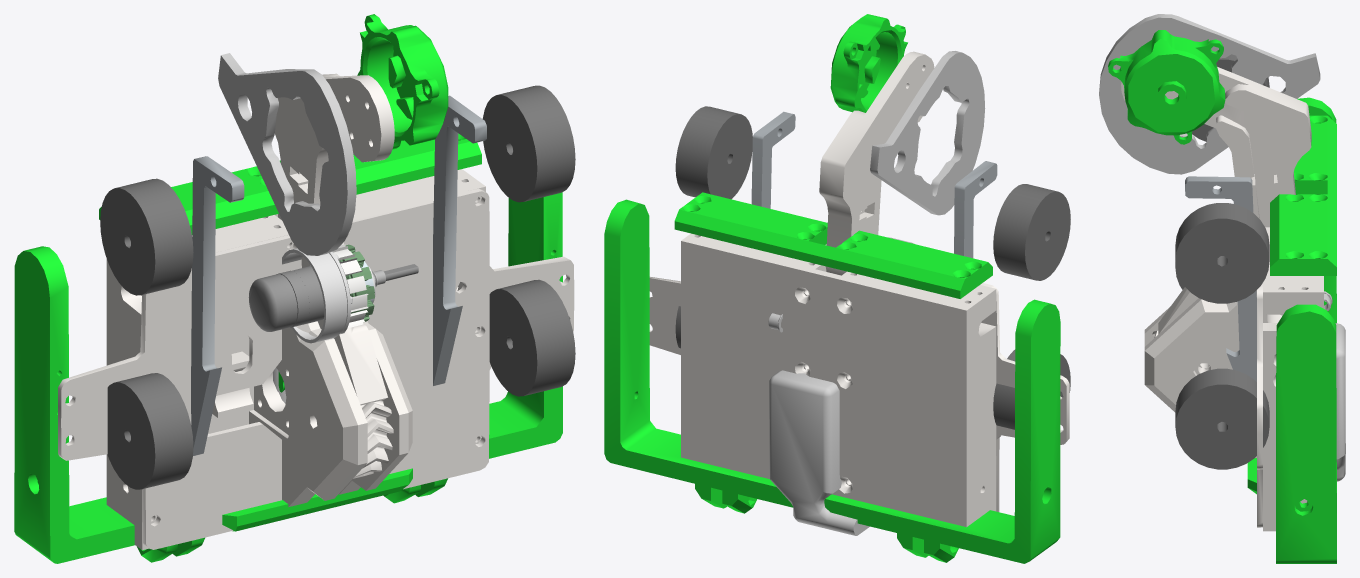
Rendered from noogie-opt.glb.
3 views of the same model, side by side, from view 1: azimuth 30°, elevation 25°; view 2: azimuth 150°, elevation 25°; view 3: azimuth 270°, elevation 25° (orthographic). The views are drawn at different scales.
Visible parts, largest first — view 1: Motor_Insert_primitive0, Left_Front_Armor_primitive0, 125"_Wheel_primitive0, 3"_Fork_primitive0, Battery_primitive0, Repeat_Drive_Mk3_primitive0, 2306_motor_primitive3, 2306_motor_primitive252, 2306_motor_primitive1; view 2: Motor_Insert_primitive0, Left_Front_Armor_primitive0, Battery_primitive0, 125"_Wheel_primitive0, 3"_Fork_primitive0; view 3: Left_Front_Armor_primitive0, Motor_Insert_primitive0, 125"_Wheel_primitive0, Battery_primitive0, 3"_Fork_primitive0.
Boxes of the visible parts, x1=… form: Motor_Insert_primitive0: x1=58, y1=73, x2=574, y2=550; Left_Front_Armor_primitive0: x1=14, y1=14, x2=562, y2=563; 125"_Wheel_primitive0: x1=100, y1=85, x2=575, y2=489; 3"_Fork_primitive0: x1=191, y1=95, x2=486, y2=455; Battery_primitive0: x1=218, y1=53, x2=356, y2=403; Repeat_Drive_Mk3_primitive0: x1=248, y1=264, x2=418, y2=331; 2306_motor_primitive3: x1=282, y1=248, x2=377, y2=343; 2306_motor_primitive252: x1=332, y1=244, x2=368, y2=328; 2306_motor_primitive1: x1=339, y1=244, x2=374, y2=321; Motor_Insert_primitive0: x1=649, y1=51, x2=1069, y2=527; Left_Front_Armor_primitive0: x1=604, y1=14, x2=1060, y2=563; Battery_primitive0: x1=768, y1=51, x2=985, y2=535; 125"_Wheel_primitive0: x1=675, y1=106, x2=1070, y2=429; 3"_Fork_primitive0: x1=751, y1=111, x2=997, y2=258; Left_Front_Armor_primitive0: x1=1108, y1=30, x2=1336, y2=563; Motor_Insert_primitive0: x1=1121, y1=67, x2=1323, y2=531; 125"_Wheel_primitive0: x1=1175, y1=54, x2=1269, y2=469; Battery_primitive0: x1=1099, y1=14, x2=1345, y2=481; 3"_Fork_primitive0: x1=1185, y1=176, x2=1256, y2=381.
Size of the model in its own units: 5590 by 5746 by 2726.
